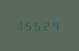five: (26, 19, 33, 30)
four: (50, 20, 57, 31)
one: (18, 19, 25, 30)
six: (34, 19, 41, 31)
two: (42, 20, 49, 31)
